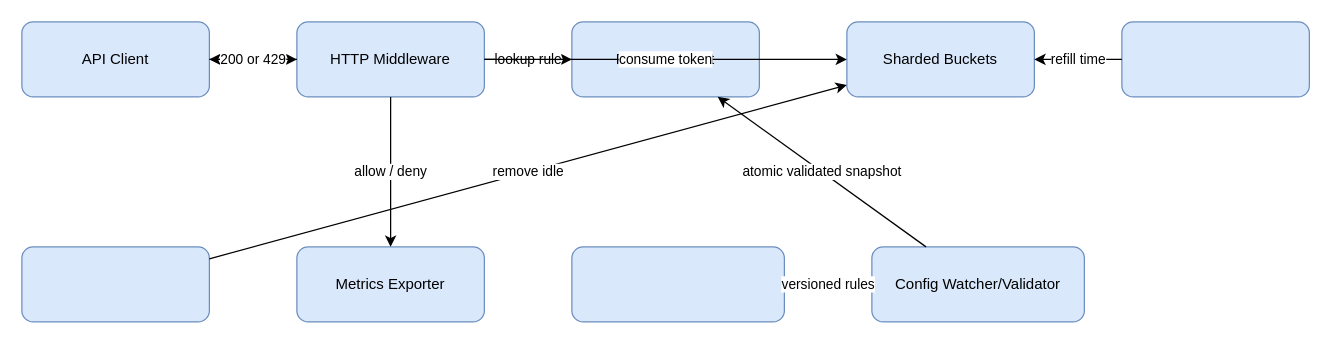
The diagram is 1331 pixels wide and 344 high, and some of its shapes have lost their labels. The shapes that lost their labels are listed below. From the top down, each one's box as (x1, y1, x2, y2) in pixels, then its label:
(1121, 21, 1309, 97): Monotonic Clock
(21, 246, 209, 322): Eviction Worker
(571, 246, 784, 322): Versioned Config Source
